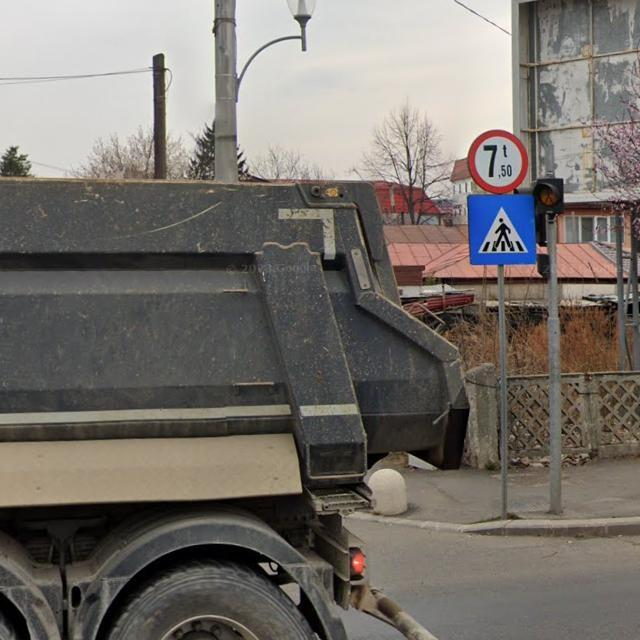info_crosswalk: (466, 193, 541, 268)
